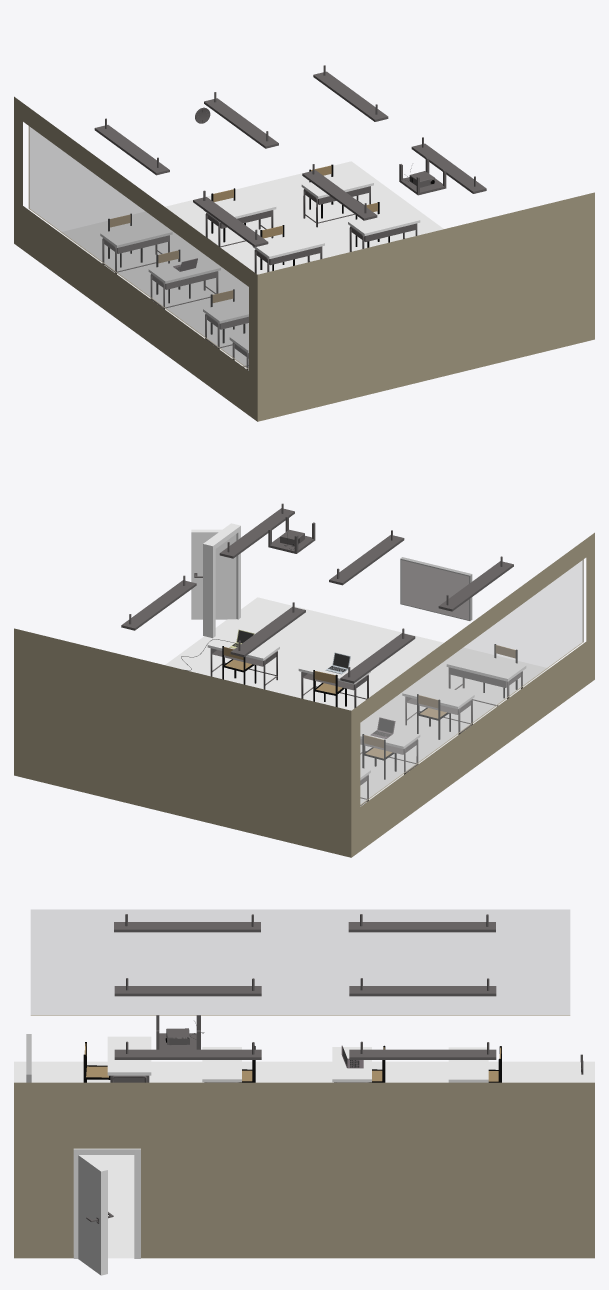
File: sallefinale.glb
3 renders of one model, top to bottom at view 1: azimuth 30°, elevation 25°; view 2: azimuth 150°, elevation 25°; view 3: azimuth 270°, elevation 25°, orthographic. The views are drawn at different scales.
Visible parts, largest first — view 1: Murs, Sol, Lumiere, Table.004, Table.003, Table.006, Table.005, Table.007, Table.008, Table.002, Projecteur; view 2: Murs, Sol, Lumiere, Porte, Tableau, Table.009, Table.002, Table, Table.003, Table.001, Projecteur, Chaise.003 (+3 smaller); view 3: Murs, Sol, Lumiere, Porte, Table.009, Table.004, Projecteur, Table.002, Table.003.
Part boxes in pixels (left/top/right/bottom): Murs: left=14, top=96, right=594, bottom=421; Sol: left=60, top=161, right=443, bottom=370; Lumiere: left=94, top=65, right=486, bottom=247; Table.004: left=100, top=220, right=172, bottom=274; Table.003: left=148, top=256, right=220, bottom=309; Table.006: left=348, top=208, right=420, bottom=251; Table.005: left=252, top=231, right=324, bottom=273; Table.007: left=203, top=194, right=276, bottom=247; Table.008: left=301, top=171, right=373, bottom=227; Table.002: left=203, top=298, right=248, bottom=349; Projecteur: left=399, top=157, right=446, bottom=195; Murs: left=14, top=532, right=594, bottom=857; Sol: left=165, top=597, right=548, bottom=806; Lumiere: left=121, top=503, right=513, bottom=683; Porte: left=191, top=523, right=240, bottom=638; Tableau: left=400, top=557, right=472, bottom=620; Table.009: left=446, top=651, right=526, bottom=706; Table.002: left=402, top=681, right=474, bottom=734; Table: left=207, top=633, right=279, bottom=689; Table.003: left=360, top=721, right=420, bottom=774; Table.001: left=298, top=656, right=370, bottom=708; Projecteur: left=268, top=516, right=315, bottom=553; Chaise.003: left=362, top=734, right=396, bottom=779; Murs: left=14, top=909, right=594, bottom=1258; Sol: left=14, top=1061, right=594, bottom=1258; Lumiere: left=114, top=914, right=496, bottom=1059; Porte: left=73, top=1148, right=140, bottom=1275; Table.009: left=107, top=1036, right=151, bottom=1082; Table.004: left=448, top=1047, right=488, bottom=1082; Projecteur: left=156, top=1015, right=200, bottom=1049; Table.002: left=202, top=1047, right=241, bottom=1082; Table.003: left=332, top=1047, right=371, bottom=1082.
Bounding box in the file's own units: 50.4 × 19.4 × 57.86.
